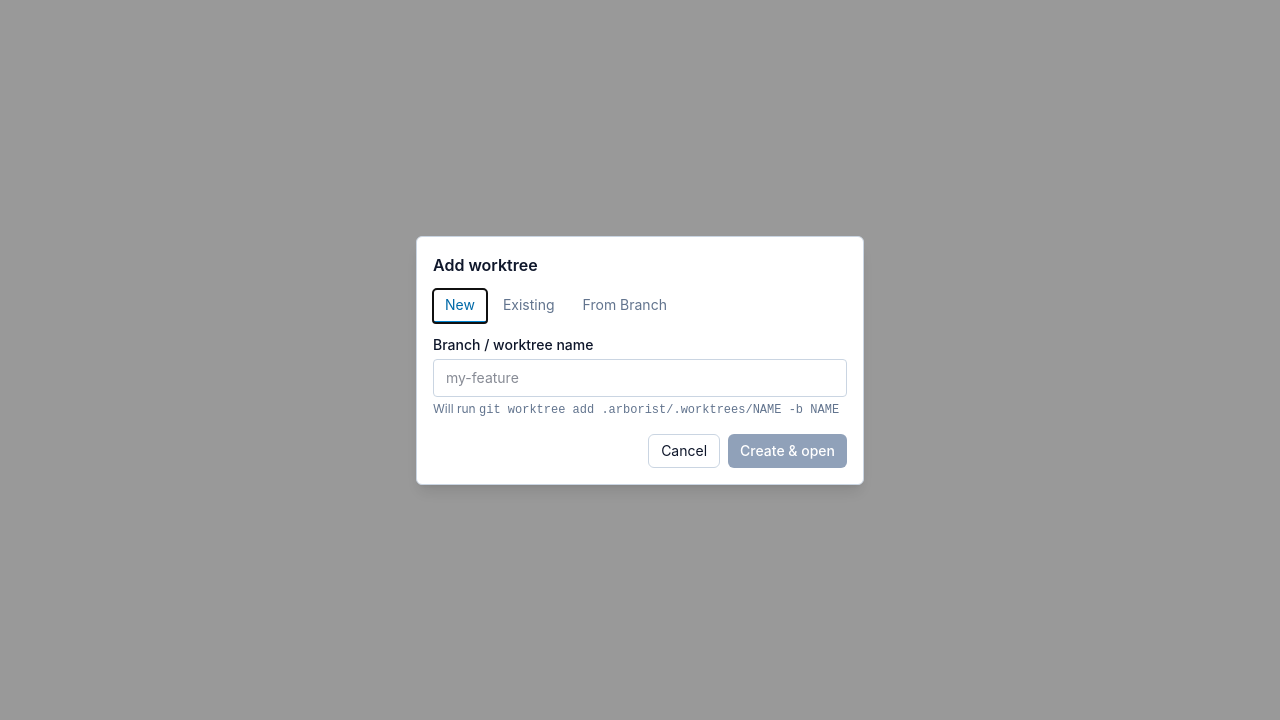
Test case: NewSessionDialog › filters out worktrees already open as tabs
Check: the heading "Add worktree" is shown, box [433,254,538,274]
Click the tab "Existing": (529, 306) [491,288,567,322]
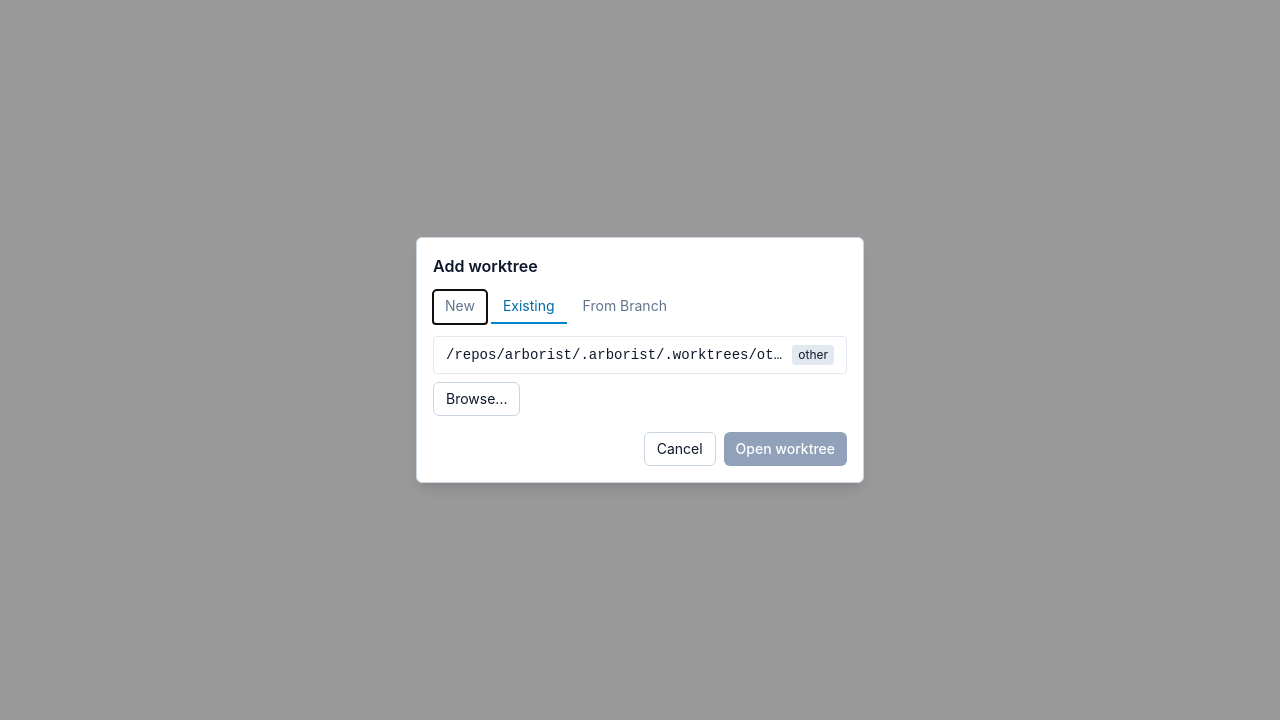
Check: the button "feature" is not shown
Check: the button "/repos/arborist/.arborist/.worktrees/other other" is shown, box [434,337,846,373]
